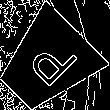P_SW: (16, 32, 78, 94)
